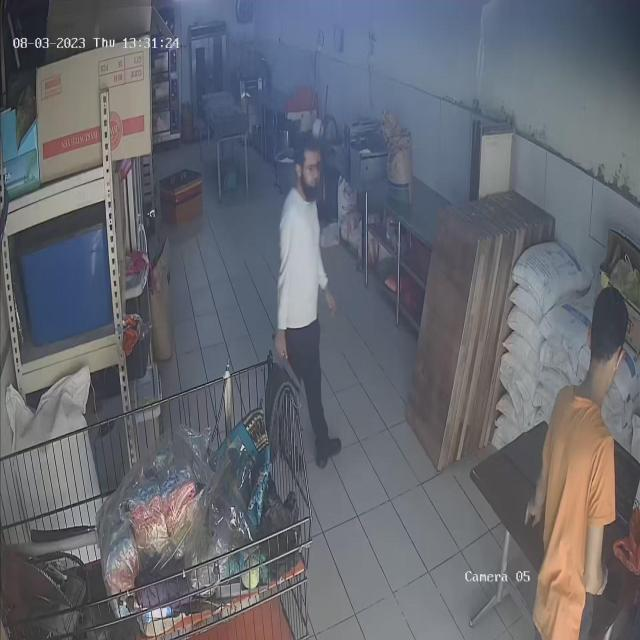Knife: (278, 343, 312, 390)
